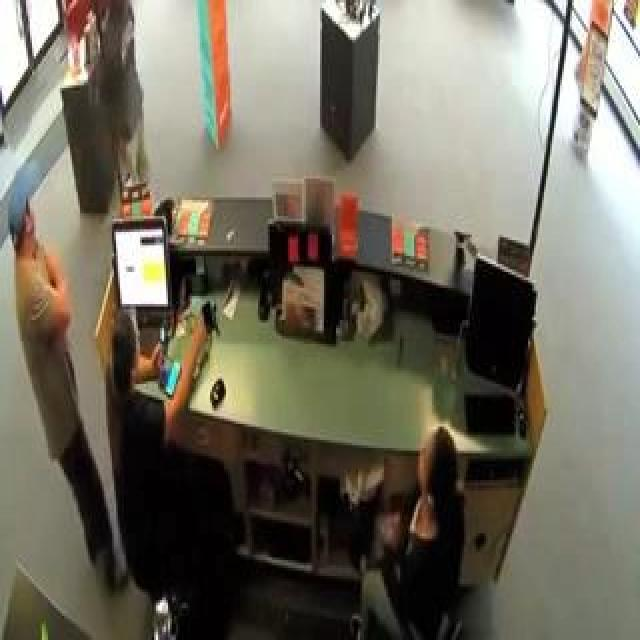high_con: (100, 0, 136, 42)
low_con: (6, 157, 41, 266)
no_con: (415, 428, 460, 522), (110, 312, 142, 394)
